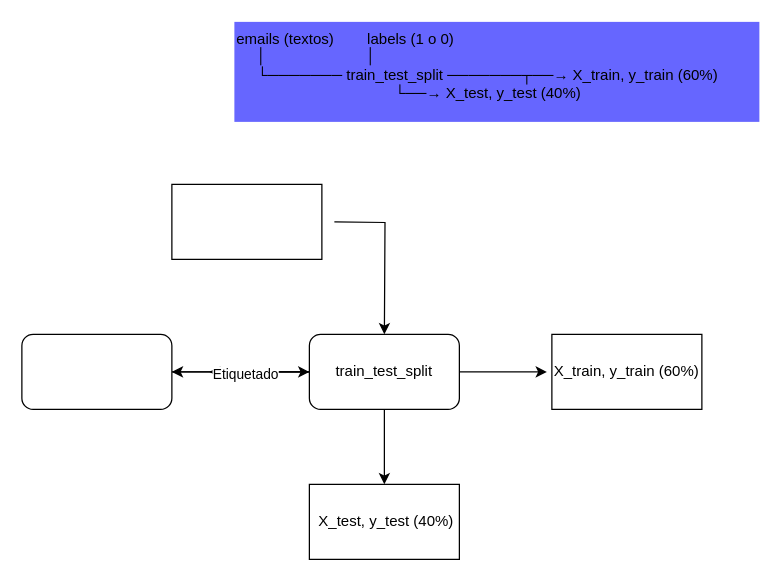
This 781x581 diagram has some shape labels left out. The box of each missing label's shape, as (x1, y1, x2, y2) in pixels:
Emails: (171, 183, 322, 259)
Labels(0 o 1): (21, 333, 172, 409)
